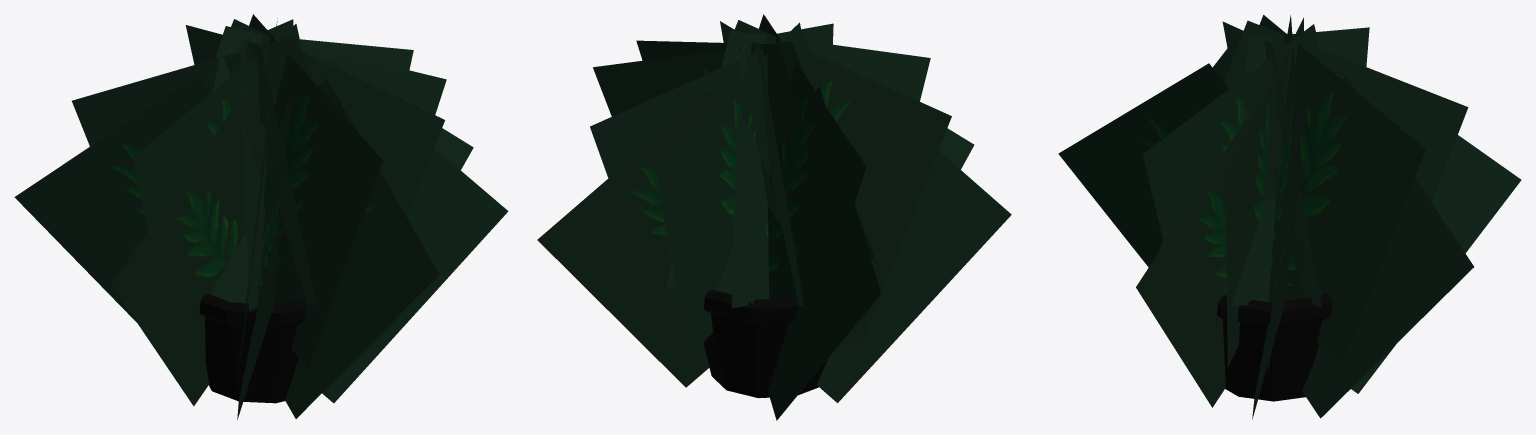
File: 3dm_Felce.fbx
3 renders of one model, left to right at view 1: azimuth 30°, elevation 25°; view 2: azimuth 150°, elevation 25°; view 3: azimuth 270°, elevation 25°, orthographic.
Visible parts, largest first — view 1: Felce06, Felce14, Felce07, Felce04, Felce03, Felce13, Pot1, Felce16, Felce17, Felce09, Felce05, Felce11 (+4 smaller); view 2: Felce, Felce16, Felce09, Felce06, Felce17, Felce07, Pot1, Felce10, Felce14, Felce11, Felce15, Felce12 (+4 smaller); view 3: Felce10, Felce03, Felce, Felce05, Felce13, Felce09, Pot1, Felce12, Felce08, Felce17, Felce11, Felce16 (+2 smaller).
Part boxes in pixels (x1,y1,x2,y2): Felce06: (111, 95, 266, 406); Felce14: (249, 14, 382, 368); Felce07: (14, 76, 267, 322); Felce04: (285, 78, 439, 418); Felce03: (322, 58, 508, 403); Felce13: (231, 19, 444, 216); Pot1: (199, 293, 305, 403); Felce16: (132, 24, 300, 230); Felce17: (72, 35, 314, 252); Felce09: (185, 25, 317, 305); Felce05: (237, 95, 290, 419); Felce11: (211, 32, 413, 300); Felce: (537, 87, 769, 387); Felce16: (734, 20, 951, 346); Felce09: (655, 22, 801, 356); Felce06: (817, 60, 1011, 403); Felce17: (759, 14, 866, 339); Felce07: (768, 86, 881, 420); Pot1: (703, 289, 827, 398); Felce10: (590, 31, 811, 177); Felce14: (731, 23, 833, 308); Felce11: (593, 41, 876, 263); Felce15: (666, 30, 930, 294); Felce12: (636, 40, 802, 147); Felce10: (1259, 15, 1425, 363); Felce03: (1136, 95, 1282, 407); Felce: (1302, 76, 1473, 418); Felce05: (1058, 63, 1302, 267); Felce13: (1143, 24, 1319, 243); Felce09: (1158, 20, 1468, 252); Pot1: (1217, 294, 1332, 401); Felce12: (1225, 17, 1303, 367); Felce08: (1334, 50, 1521, 393); Felce17: (1232, 27, 1369, 306); Felce11: (1267, 15, 1302, 372); Felce16: (1222, 21, 1321, 307).
Bounding box in the file's own units: 90.47 × 75.35 × 91.28.
Materials: 2 (1 with a texture image).
